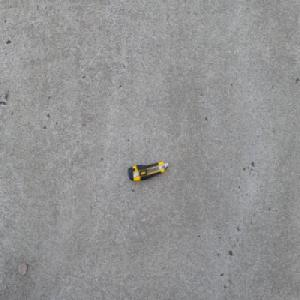Cutter: (127, 160, 168, 181)
